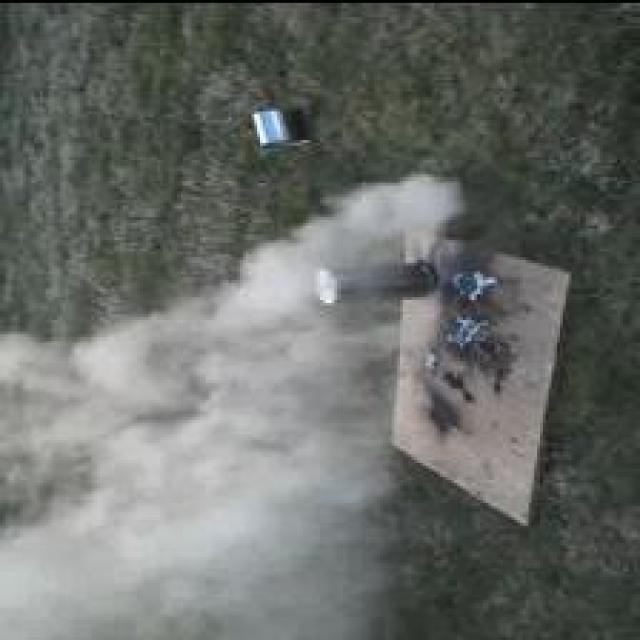Smoke: (0, 170, 465, 640)
